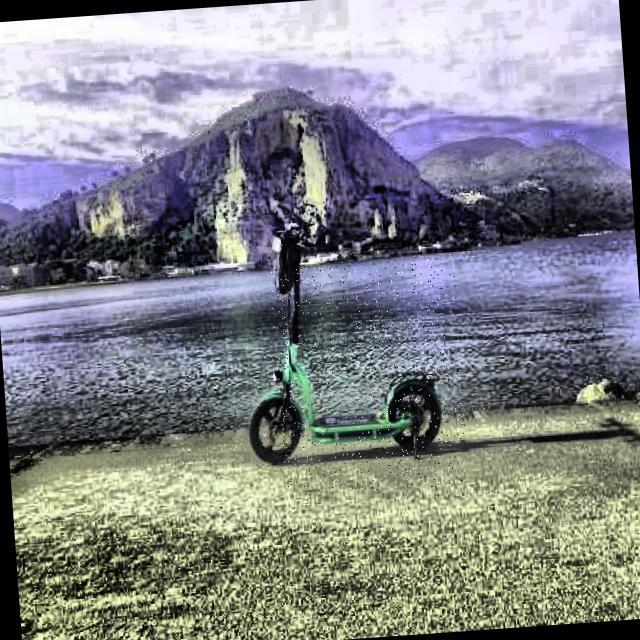bike: (249, 217, 443, 466), (249, 341, 443, 465)
car: (249, 340, 443, 465)
